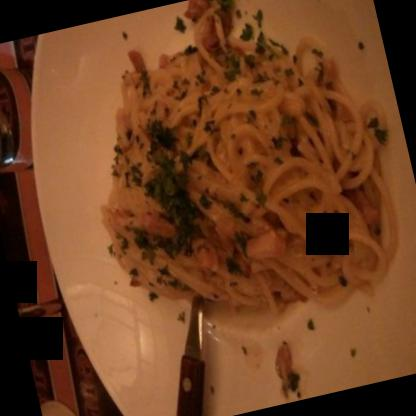pasta: (66, 0, 413, 339)
